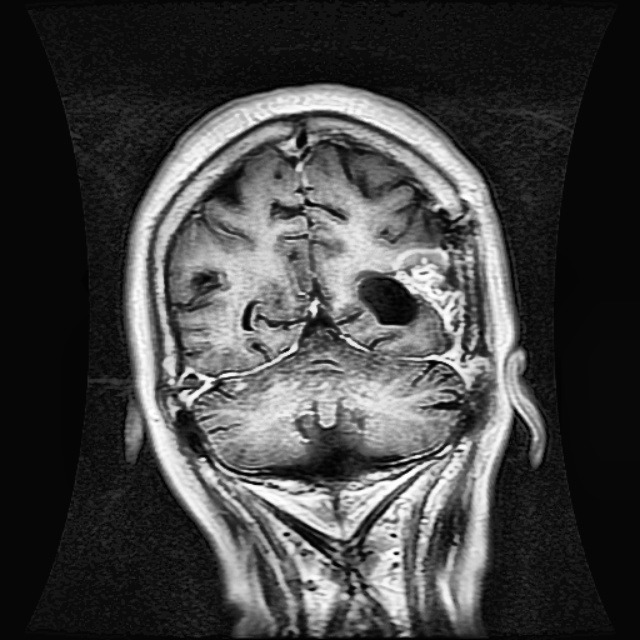Meningioma: (357, 244, 465, 340)
